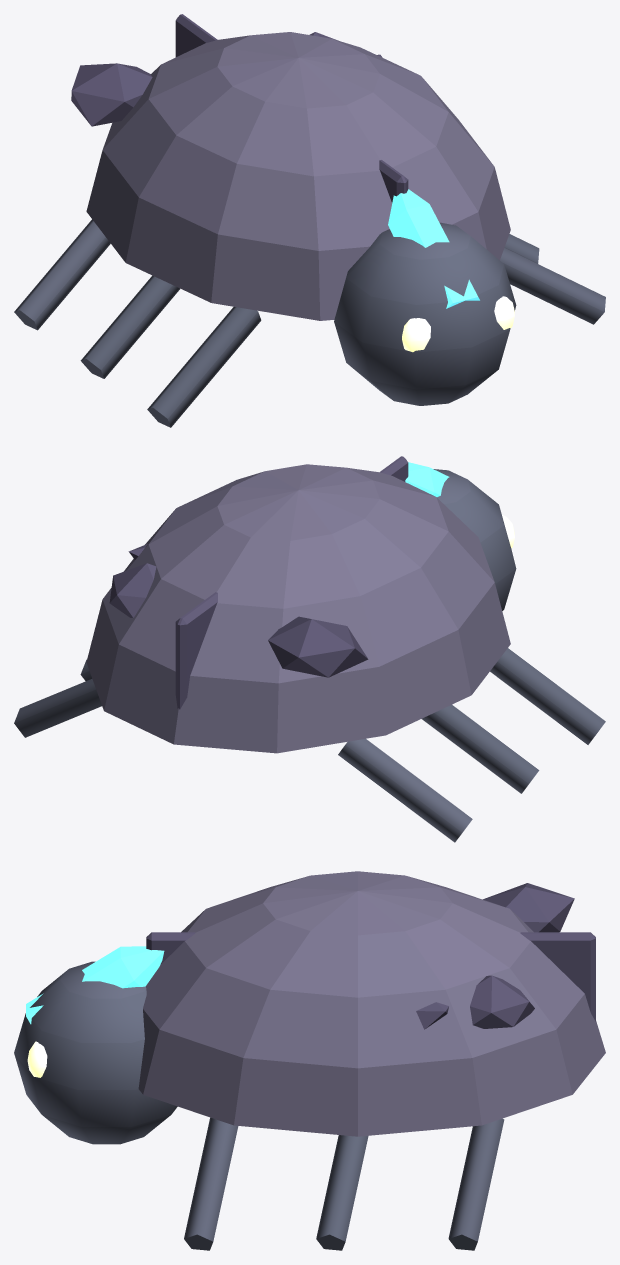
The model's file is monster_rock_beetle.glb.
3 views of the same model, one above another, from view 1: azimuth 30°, elevation 25°; view 2: azimuth 150°, elevation 25°; view 3: azimuth 270°, elevation 25° (orthographic).
Parts seen in each view (by area): view 1: body_t0_palette, body_t0_crystal, body_t0_eye_glow; view 2: body_t0_palette, body_t0_crystal; view 3: body_t0_palette, body_t0_crystal, body_t0_eye_glow.
Part boxes in pixels (<box>): body_t0_palette: <box>14,14,605,427</box>; body_t0_crystal: <box>388,189,479,308</box>; body_t0_eye_glow: <box>402,296,514,352</box>; body_t0_palette: <box>14,456,605,842</box>; body_t0_crystal: <box>405,462,449,496</box>; body_t0_palette: <box>14,871,605,1250</box>; body_t0_crystal: <box>26,946,164,1024</box>; body_t0_eye_glow: <box>27,1041,47,1077</box>.
Size of the model in its own units: 0.3928 by 0.2131 by 0.4475.
